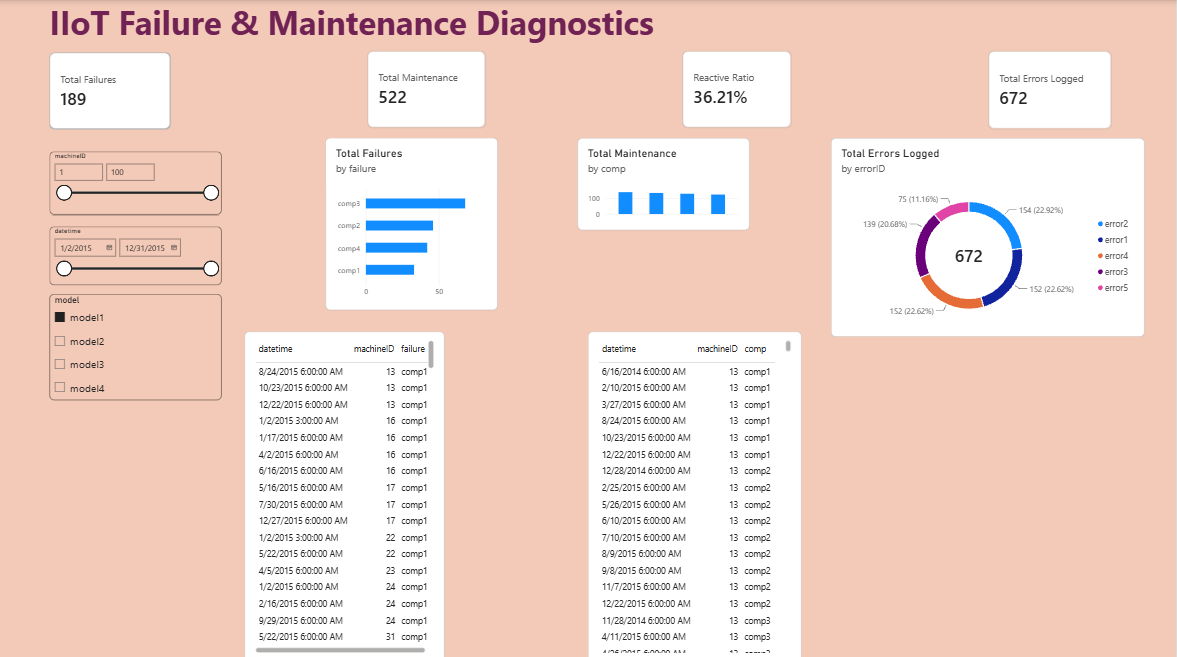

This screenshot's page, from the dashboard's own definition file:
{"tool":"powerbi","page":{"name":"Page 1","canvas":[1920,1080],"ordinal":0},"visuals":[{"type":"cardVisual","fields":{"Data":["PdM_errors.Total Failures"]},"box":[85.4,85.4,197.5,125],"z":0},{"type":"cardVisual","fields":{"Data":["PdM_errors.Total Maintenance"]},"box":[602.5,82.5,192.5,125],"z":1000},{"type":"cardVisual","fields":{"Data":["PdM_errors.Reactive Ratio"]},"box":[1115,82.5,177.5,125],"z":2000},{"type":"cardVisual","fields":{"Data":["PdM_errors.Total Errors Logged"]},"box":[1612.5,82.5,200,127.5],"z":3000},{"type":"clusteredBarChart","fields":{"Category":["PdM_failures.failure"],"Y":["PdM_errors.Total Failures"]},"box":[533.3,224.2,280,280],"z":4000},{"type":"clusteredColumnChart","fields":{"Category":["PdM_maint.comp"],"Y":["PdM_errors.Total Maintenance"]},"box":[945.4,224.2,280,150],"z":5000},{"type":"donutChart","fields":{"Category":["PdM_errors.errorID"],"Y":["PdM_errors.Total Errors Logged"]},"box":[1357.5,224.2,510.2,323.2],"z":6000},{"type":"tableEx","fields":{"Values":["PdM_failures.datetime","PdM_machines.machineID","PdM_failures.failure"]},"box":[402.5,540,325,540],"z":7000},{"type":"tableEx","fields":{"Values":["PdM_maint.datetime","PdM_machines.machineID","PdM_maint.comp"]},"box":[962.5,540,347.5,540],"z":8000},{"type":"slicer","fields":{"Values":["PdM_machines.machineID"]},"box":[85,247.5,280,102.5],"z":9000},{"type":"slicer","fields":{"Values":["PdM_failures.datetime"]},"box":[85,367.5,280,95],"z":10000},{"type":"slicer","fields":{"Values":["PdM_machines.model"]},"box":[85,477.5,280,172.5],"z":11000},{"type":"textbox","box":[85,0,1225,105],"z":12000}]}

Visuals, with their boxes in screenshot pixels (x1, y1, x2, y2), scaled from the page's 1920x1080 canvas onto the 1177x657 screenshot:
cardVisual - PdM_errors.Total Failures: bbox=[52, 52, 173, 128]
cardVisual - PdM_errors.Total Maintenance: bbox=[369, 50, 487, 126]
cardVisual - PdM_errors.Reactive Ratio: bbox=[684, 50, 792, 126]
cardVisual - PdM_errors.Total Errors Logged: bbox=[988, 50, 1111, 128]
clusteredBarChart - PdM_failures.failure x PdM_errors.Total Failures: bbox=[327, 136, 499, 307]
clusteredColumnChart - PdM_maint.comp x PdM_errors.Total Maintenance: bbox=[580, 136, 751, 228]
donutChart - PdM_errors.errorID x PdM_errors.Total Errors Logged: bbox=[832, 136, 1145, 333]
tableEx - PdM_failures.datetime x PdM_machines.machineID: bbox=[247, 328, 446, 656]
tableEx - PdM_maint.datetime x PdM_machines.machineID: bbox=[590, 328, 803, 656]
slicer - PdM_machines.machineID: bbox=[52, 151, 224, 213]
slicer - PdM_failures.datetime: bbox=[52, 224, 224, 281]
slicer - PdM_machines.model: bbox=[52, 290, 224, 395]
textbox: bbox=[52, 0, 803, 64]
